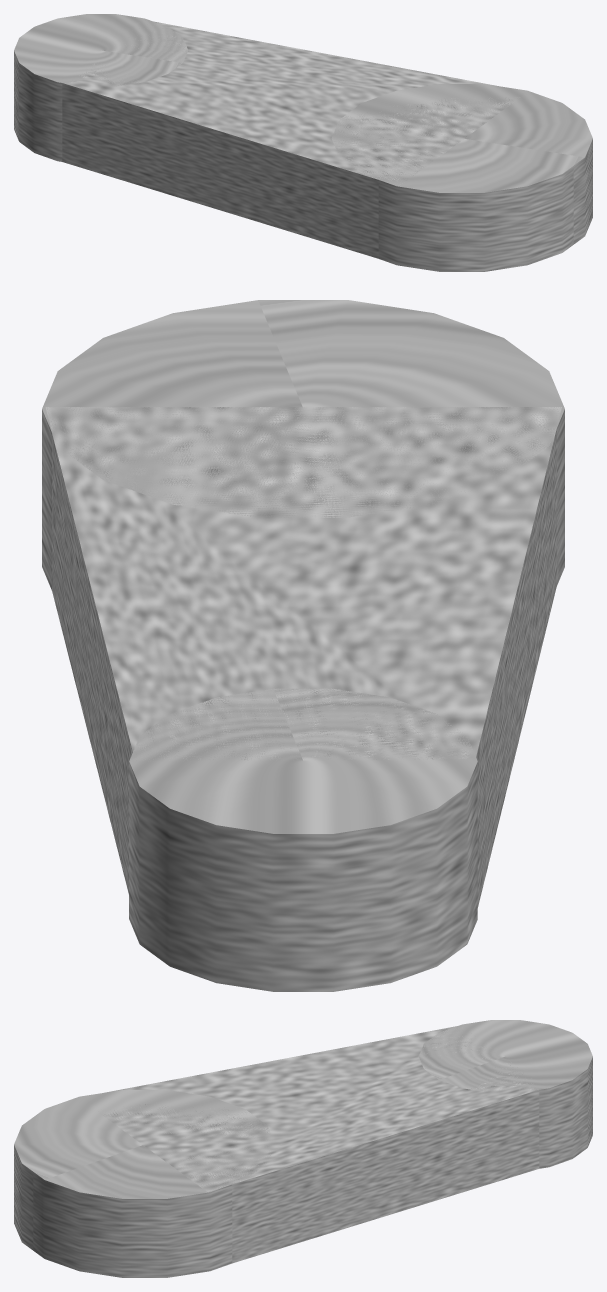
File: 1_paletaDir.obj
3 views of the same model, one above another, from view 1: azimuth 30°, elevation 25°; view 2: azimuth 150°, elevation 25°; view 3: azimuth 270°, elevation 25° (orthographic). The views are drawn at different scales.
Parts seen in each view (by area): view 1: Box008, Cylinder004, Cylinder003; view 2: Box008, Cylinder003, Cylinder004; view 3: Box008, Cylinder004, Cylinder003.
Boxes of the visible parts, x1,y1,x2,y2 form: Box008: (62,20,519,258); Cylinder004: (331,84,592,271); Cylinder003: (14,14,187,161); Box008: (45,407,561,907); Cylinder003: (129,688,477,991); Cylinder004: (42,300,564,590); Box008: (101,1026,539,1263); Cylinder004: (14,1090,271,1277); Cylinder003: (418,1020,592,1168).
Size of the model in its own units: 9.71 by 2 by 13.28.
Materials: 1 (1 with a texture image).
